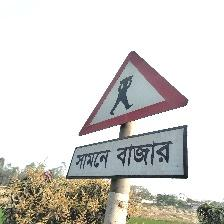Market-in-front: (67, 51, 191, 180)
